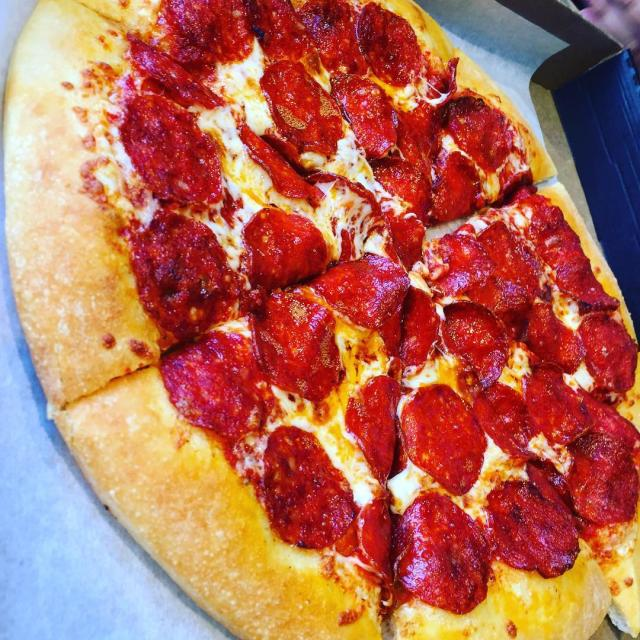pepperoni: (347, 88, 546, 222), (127, 209, 247, 345), (159, 328, 286, 455), (294, 154, 426, 262), (509, 192, 620, 318), (422, 223, 554, 323), (117, 89, 227, 209), (258, 423, 360, 551), (246, 292, 351, 402), (306, 244, 406, 355), (415, 483, 493, 615), (486, 473, 580, 579), (157, 1, 313, 64), (308, 0, 422, 84), (402, 380, 488, 490), (259, 57, 351, 154), (241, 205, 333, 296), (233, 118, 325, 209), (561, 431, 640, 528), (130, 33, 228, 111), (345, 369, 411, 484), (359, 482, 414, 612), (328, 68, 404, 159), (442, 296, 510, 397), (521, 359, 595, 451), (572, 310, 640, 400), (509, 298, 586, 376), (475, 385, 542, 462), (576, 382, 640, 454), (398, 282, 443, 375)
pizza: (0, 0, 640, 640)
